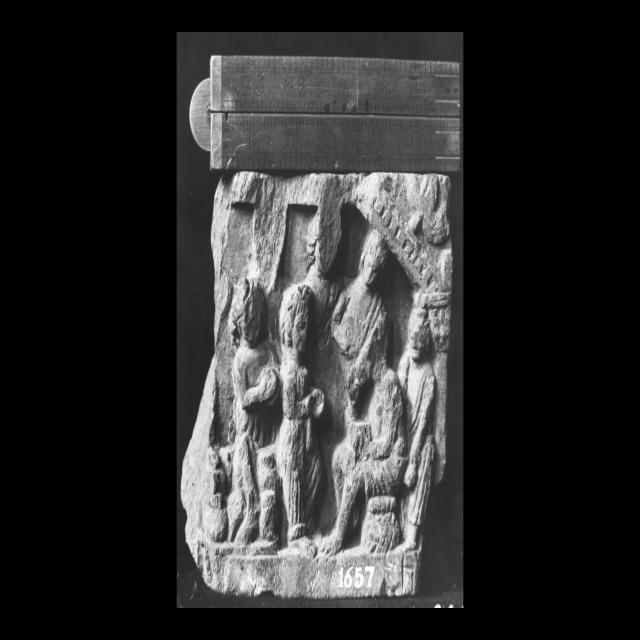buddha-sitting: (332, 231, 388, 361)
